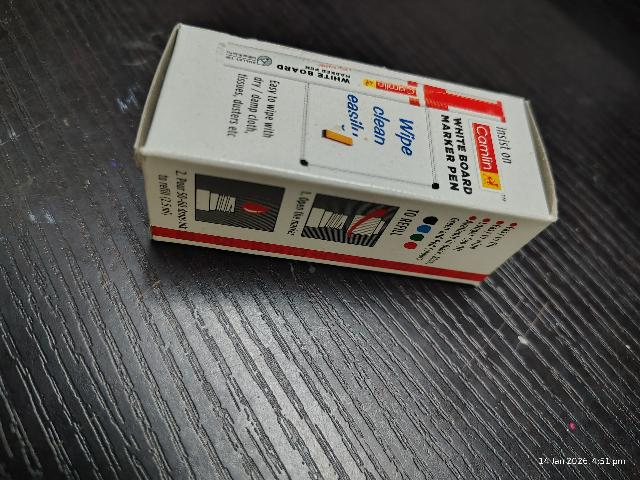camlin marker ink: (139, 20, 550, 288)
